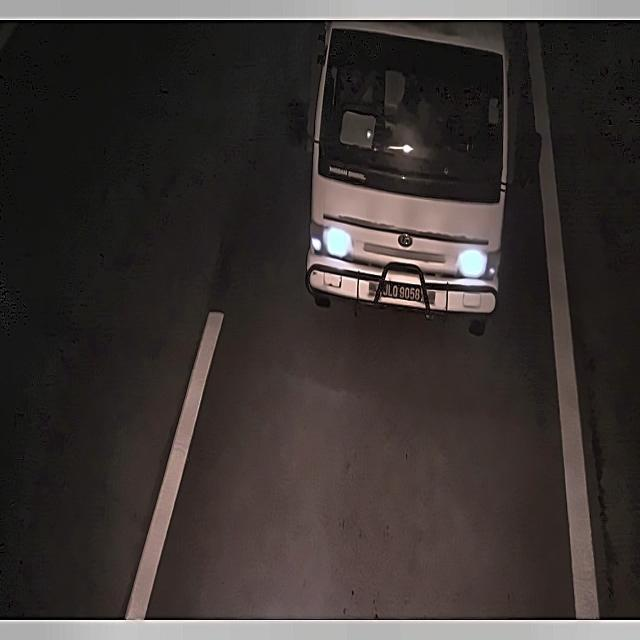car: (376, 275, 427, 308)
